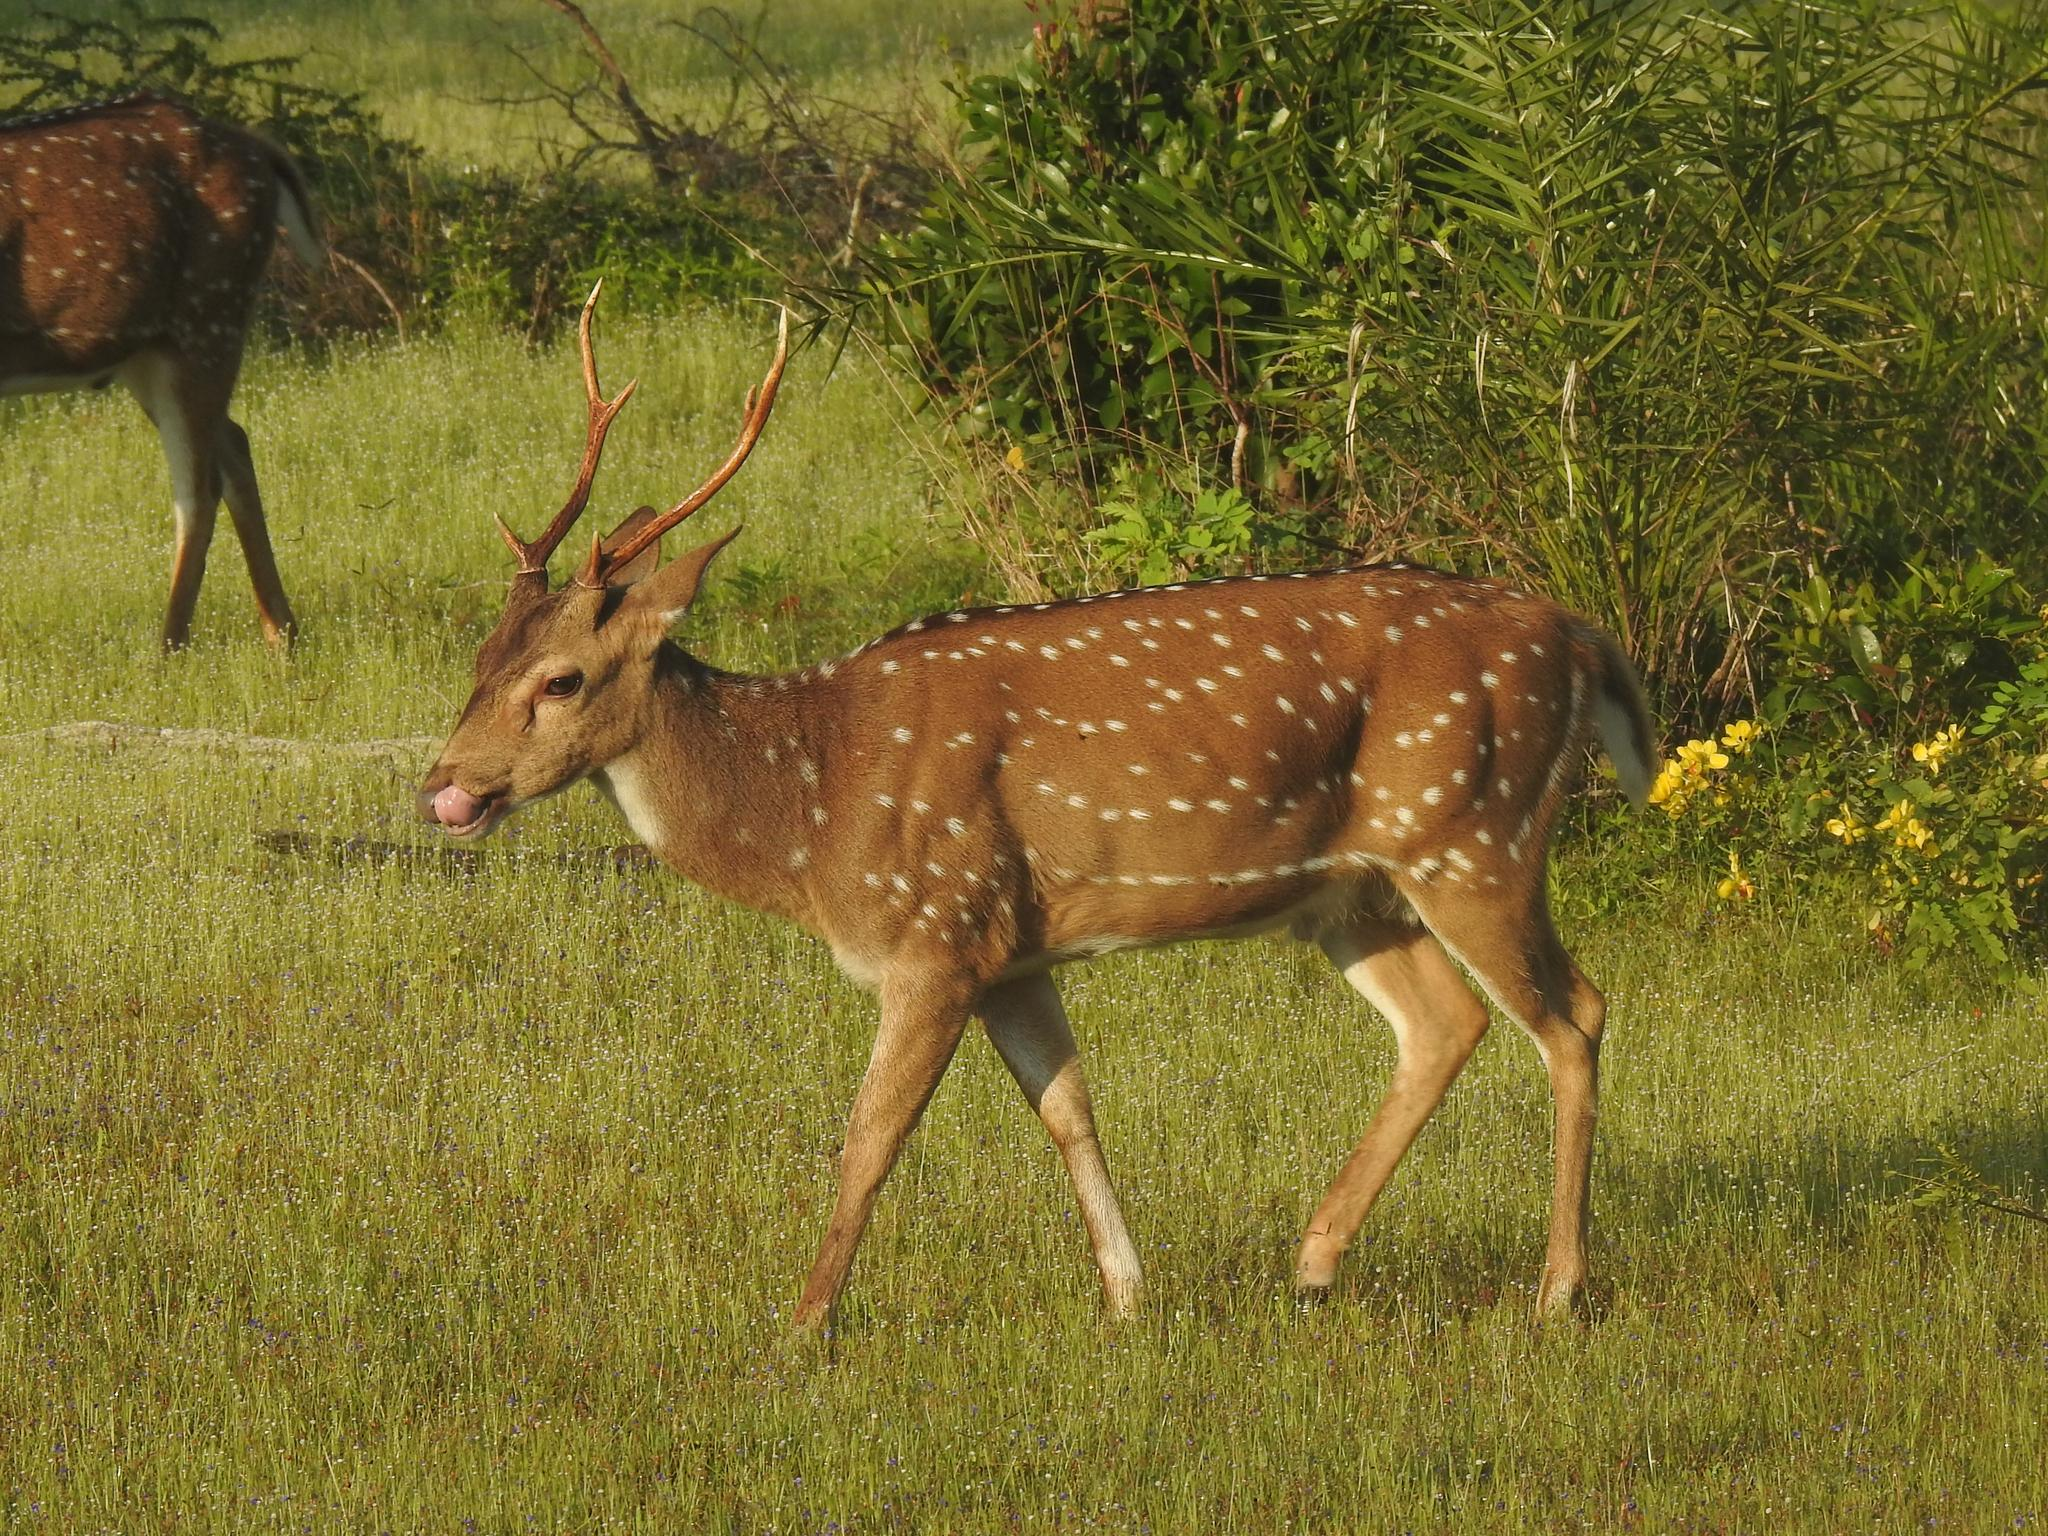Deer: (419, 287, 1656, 1323)
